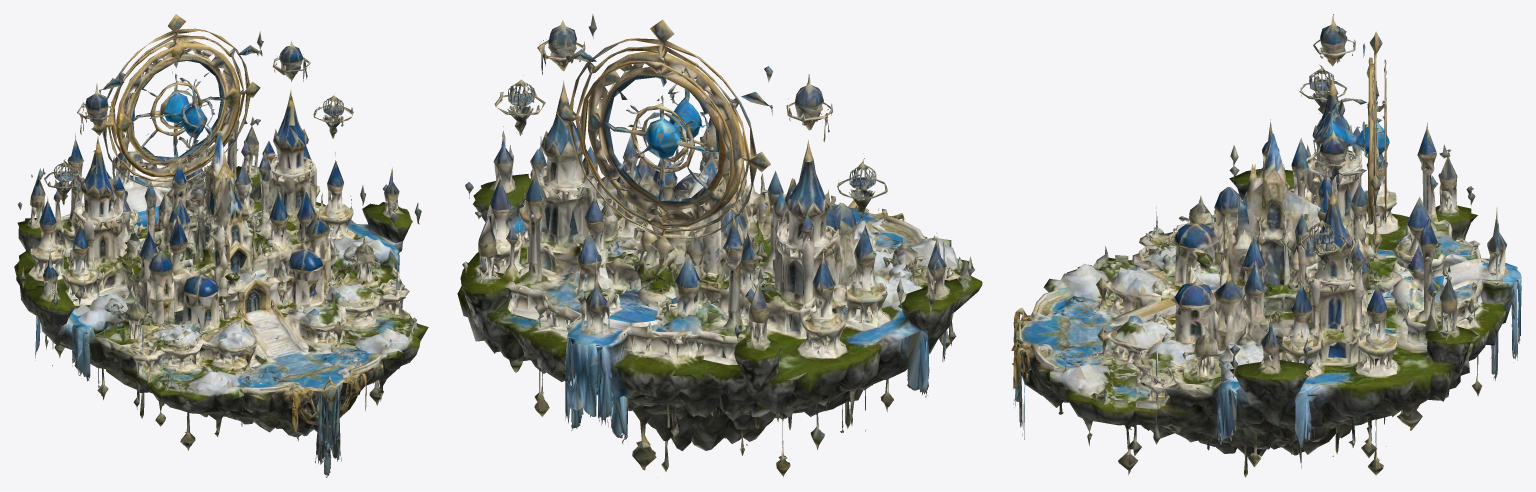
The model's file is Celestial_Citadel_of_.glb.
The picture shows the model from 3 angles, left to right: view 1: azimuth 30°, elevation 25°; view 2: azimuth 150°, elevation 25°; view 3: azimuth 270°, elevation 25°; orthographic projection. The views are drawn at different scales.
Parts seen in each view (by area): view 1: Celestial_Citadel_of_; view 2: Celestial_Citadel_of_; view 3: Celestial_Citadel_of_.
Boxes of the visible parts, left/top/right/bottom form: Celestial_Citadel_of_: left=14, top=14, right=428, bottom=477; Celestial_Citadel_of_: left=457, top=14, right=982, bottom=477; Celestial_Citadel_of_: left=1011, top=14, right=1521, bottom=477.
Bounding box in the file's own units: 1.86 × 1.75 × 1.9.
1 material, 1 textured.
